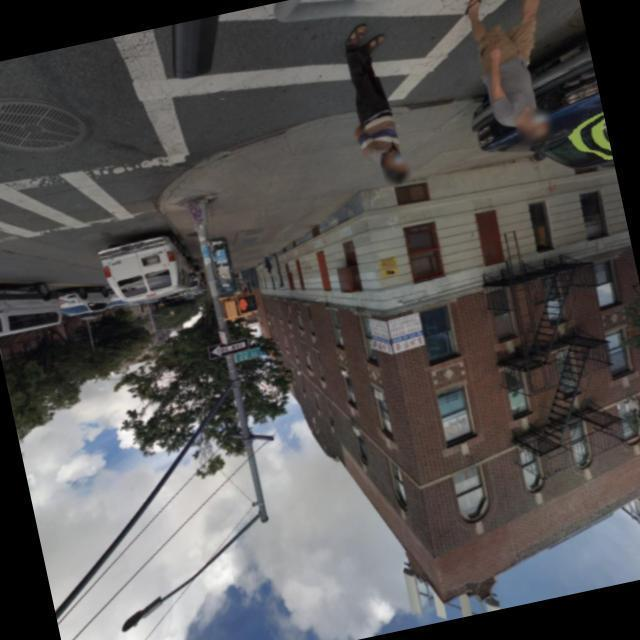off: (100, 586, 220, 640)
